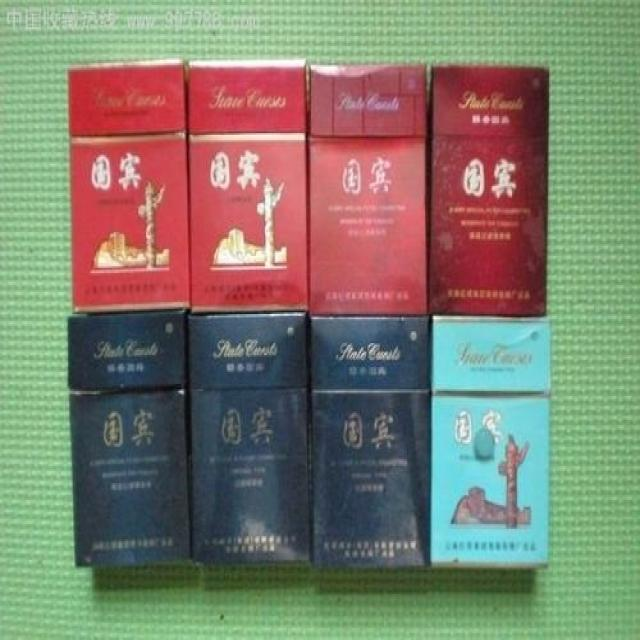box: (65, 311, 192, 568), (67, 58, 191, 314), (188, 58, 311, 316), (308, 312, 431, 570), (307, 58, 429, 317), (189, 312, 312, 567), (430, 316, 552, 570), (428, 65, 549, 317)
